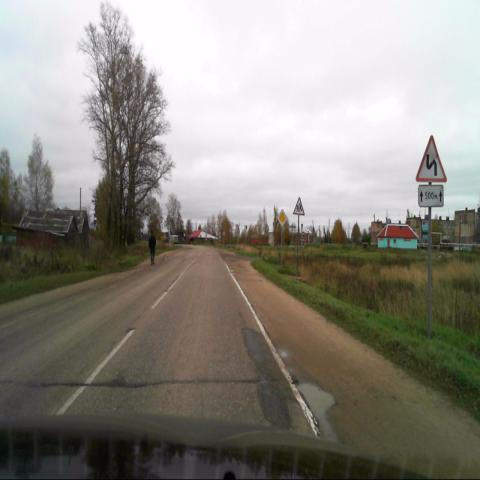1_12_2: (414, 134, 446, 181)
